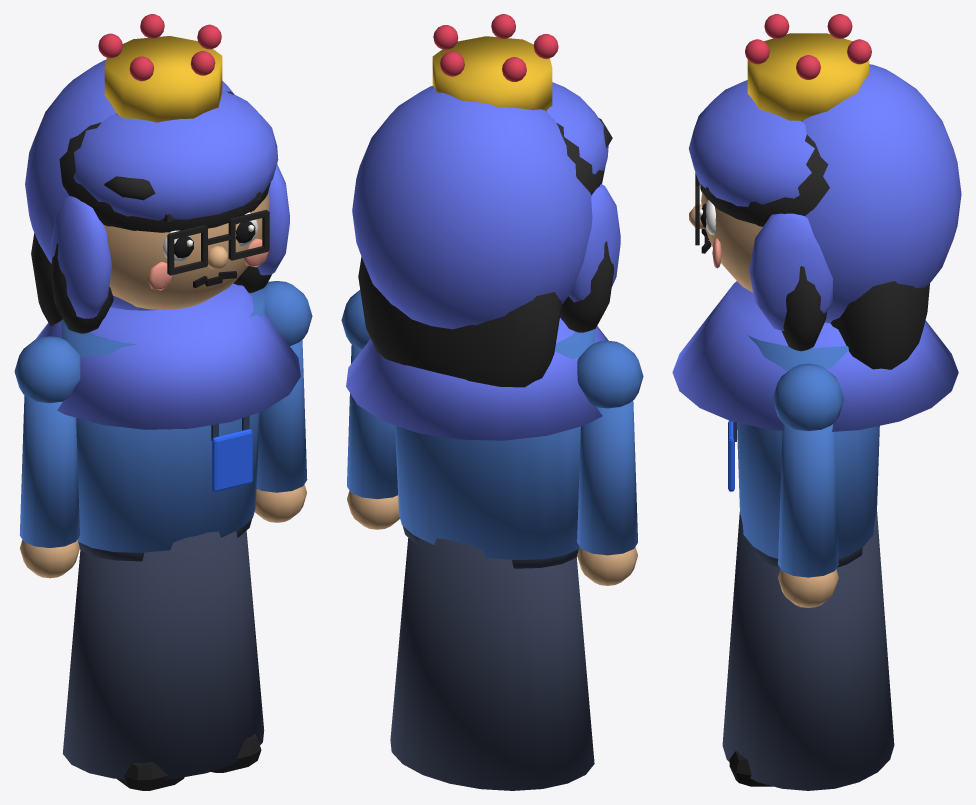
The model's file is person.glb.
3 renders of one model, left to right at view 1: azimuth 30°, elevation 25°; view 2: azimuth 150°, elevation 25°; view 3: azimuth 270°, elevation 25°, orthographic.
Parts seen in each view (by area): view 1: Cone.002, Cone.005, Torso, Sphere.022, Cone.003, Cylinder.003, Sphere.021, Head, Sphere.023, Cone.004, Sphere, Sphere.017 (+13 smaller); view 2: Sphere.021, Cone.002, Torso, Cone.005, Sphere.018, Cone.003, Cylinder.003, Cone.004, Sphere, Sphere.022, Sphere.023, Sphere.019 (+5 smaller); view 3: Cone.002, Sphere.021, Cone.005, Torso, Sphere.022, Cone.004, Cylinder.003, Sphere.024, Sphere.018, Sphere.002, Sphere.017, Sphere.020 (+3 smaller).
Boxes of the visible parts, x1,y1,x2,y2 form: Cone.002: (62,531,264,779); Cone.005: (35,283,300,429); Torso: (61,289,265,552); Sphere.022: (73,90,278,220); Cone.003: (19,395,79,547); Cylinder.003: (104,36,222,122); Sphere.021: (25,60,234,310); Head: (104,193,269,309); Sphere.023: (51,196,111,318); Cone.004: (256,340,307,492); Sphere: (14,336,80,402); Sphere.017: (59,91,270,232); Sphere.021: (352,86,592,329); Cone.002: (390,538,594,790); Torso: (395,329,595,559); Cone.005: (346,318,608,440); Sphere.018: (358,256,561,387); Cone.003: (577,400,637,555); Cylinder.003: (432,36,552,110); Cone.004: (347,344,397,499); Sphere: (577,340,643,408); Sphere.022: (546,82,608,174); Sphere.023: (569,184,620,302); Sphere.019: (560,241,614,332); Cone.002: (722,512,894,790); Sphere.021: (802,64,961,323); Cone.005: (672,281,958,431); Torso: (737,335,879,558); Sphere.022: (688,80,814,206); Cone.004: (778,423,838,577); Cylinder.003: (747,33,869,120); Sphere.024: (749,213,833,330); Sphere.018: (830,281,929,369); Sphere.002: (772,363,844,431); Sphere.017: (700,120,829,226); Sphere.020: (782,266,826,351).
Size of the model in its own units: 0.94 by 2.24 by 0.8078.
